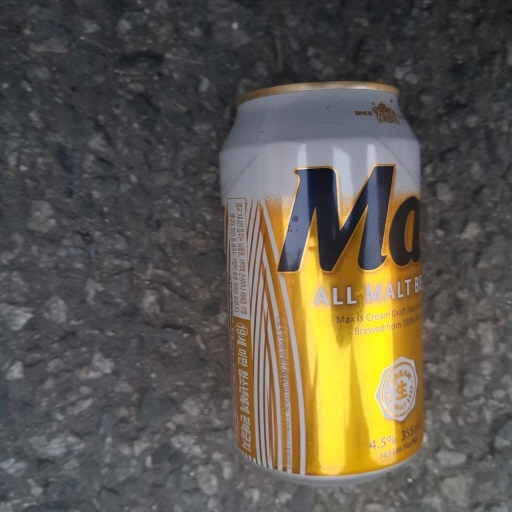Metal_0: (215, 77, 430, 484)
